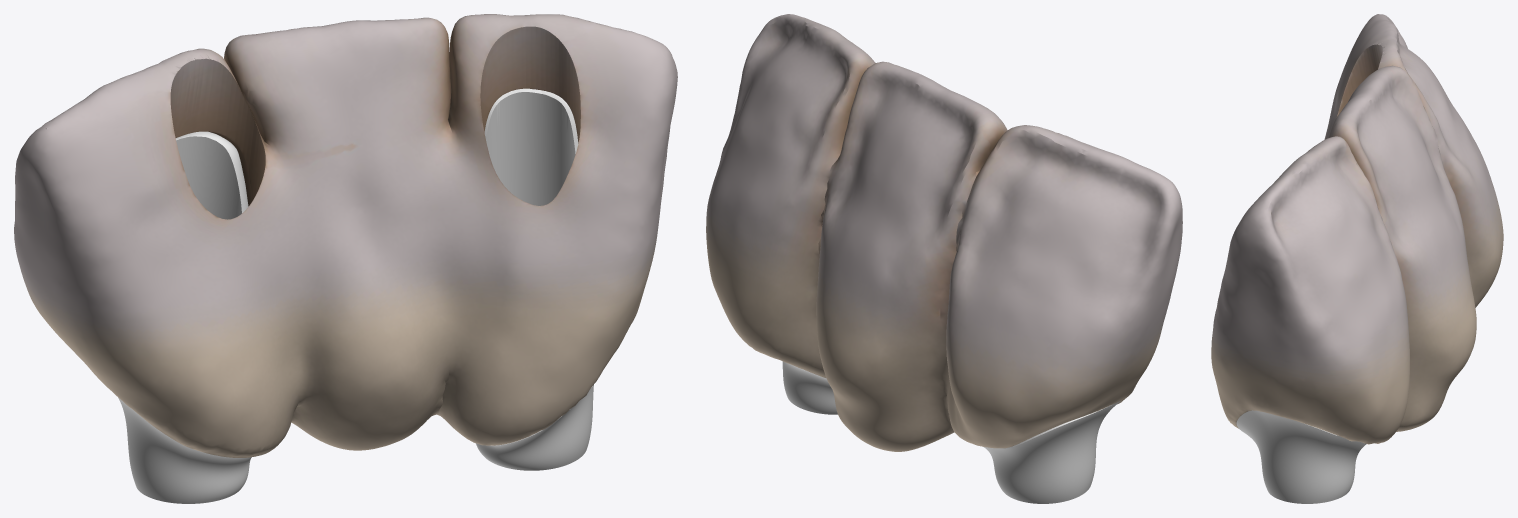
File: cutback.glb
3 renders of one model, left to right at view 1: azimuth 30°, elevation 25°; view 2: azimuth 150°, elevation 25°; view 3: azimuth 270°, elevation 25°, orthographic. The views are drawn at different scales.
Parts seen in each view (by area): view 1: Crown_cutback, Titanium_Abutment.001; view 2: Crown_cutback, Titanium_Abutment.001; view 3: Crown_cutback, Titanium_Abutment.001.
Part boxes in pixels (bbox=[...]): Crown_cutback: bbox=[14, 14, 677, 457]; Titanium_Abutment.001: bbox=[118, 88, 593, 503]; Crown_cutback: bbox=[706, 14, 1182, 451]; Titanium_Abutment.001: bbox=[782, 361, 1120, 503]; Crown_cutback: bbox=[1211, 14, 1503, 444]; Titanium_Abutment.001: bbox=[1236, 410, 1366, 503].
Size of the model in its own units: 17.08 by 12.17 by 9.52.
2 materials, 1 textured.
